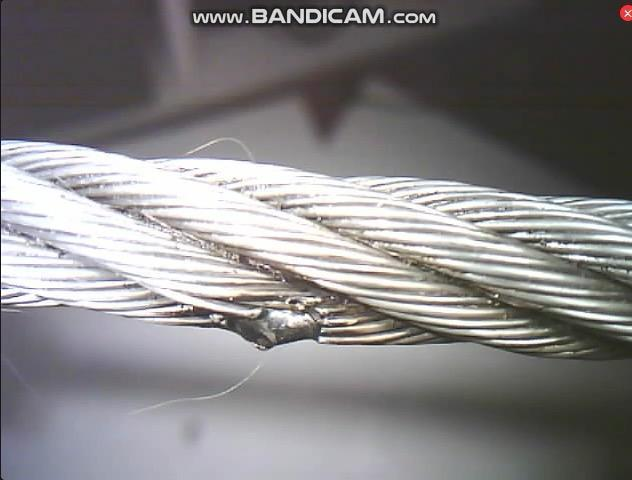thunderbolt: (198, 286, 348, 359)
